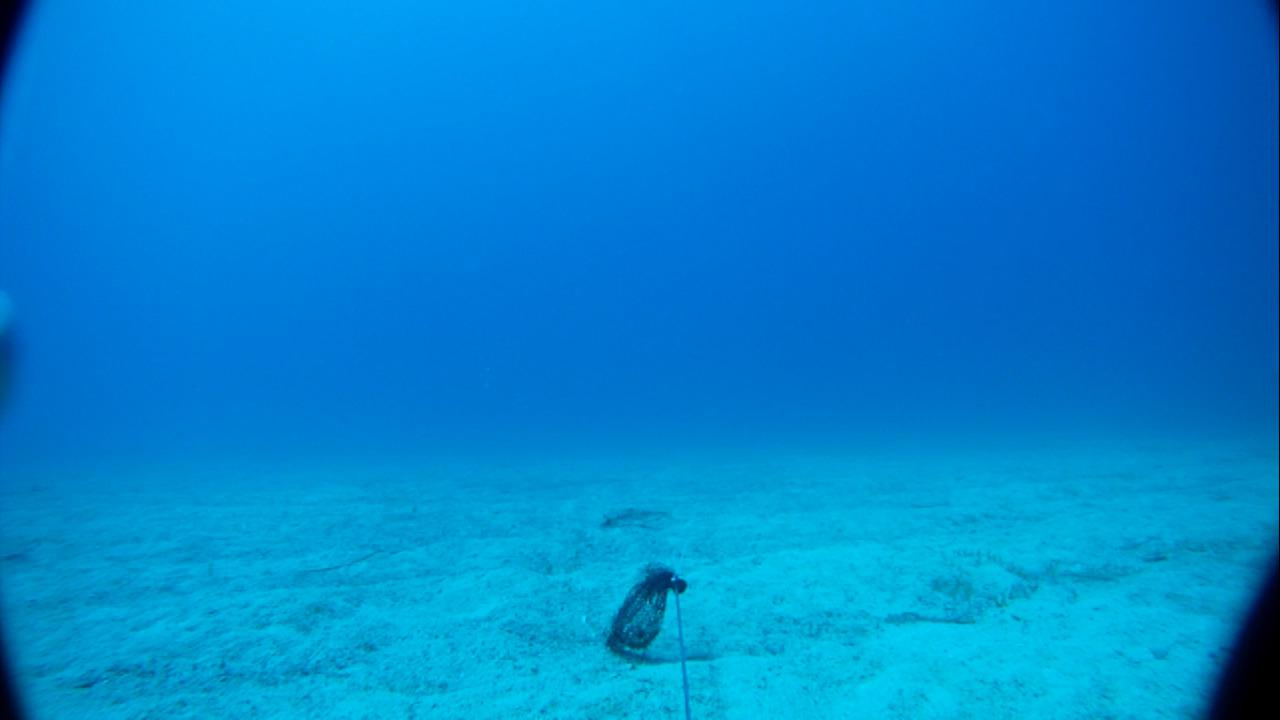dactylopterus: (597, 499, 674, 541)
